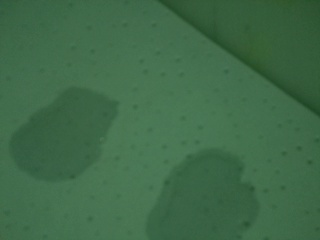Water_detected: (25, 102, 105, 168), (154, 159, 218, 237)
